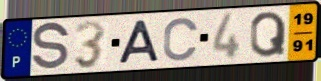3: (73, 19, 111, 71)
4: (211, 11, 245, 62)
A: (117, 19, 162, 66)
C: (162, 15, 201, 63)
Q: (249, 10, 288, 59)
S: (30, 20, 72, 74)
